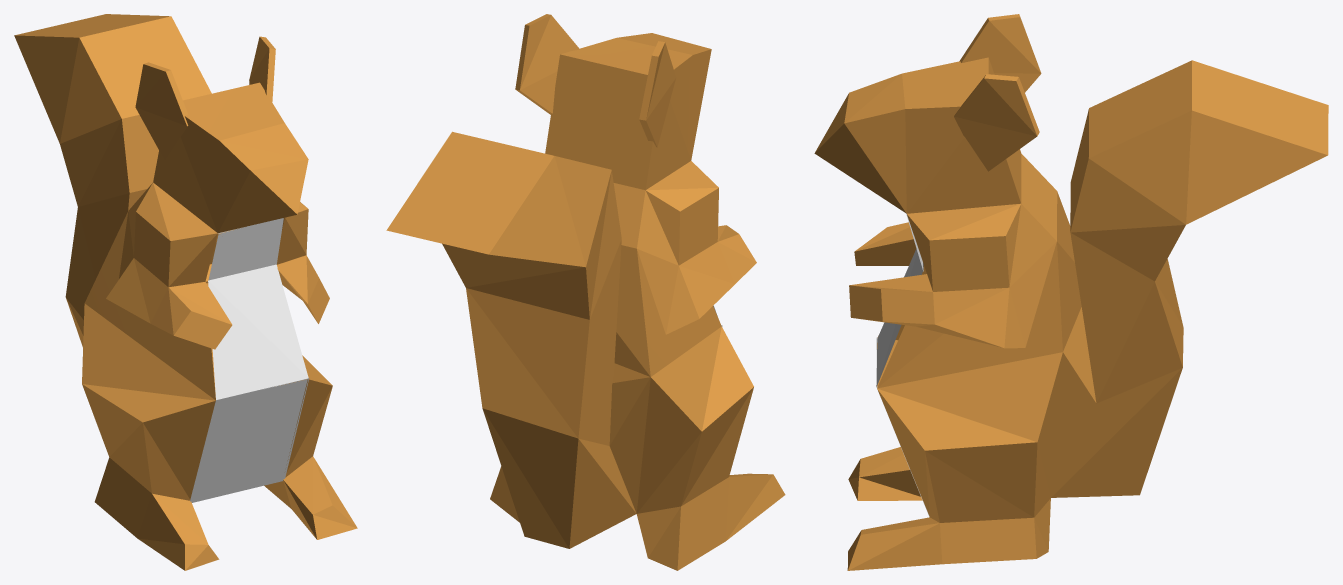
File: ardillaAjustada.fbx
The picture shows the model from 3 angles, left to right: view 1: azimuth 30°, elevation 25°; view 2: azimuth 150°, elevation 25°; view 3: azimuth 270°, elevation 25°; orthographic projection. The views are drawn at different scales.
Visible parts, largest first — view 1: model; view 2: model; view 3: model.
Part boxes in pixels (x1,y1,x2,y2): model: (14,14,357,570); model: (386,14,785,570); model: (814,14,1328,570).
Bounding box in the file's own units: 0.185 × 0.3947 × 0.3743.
